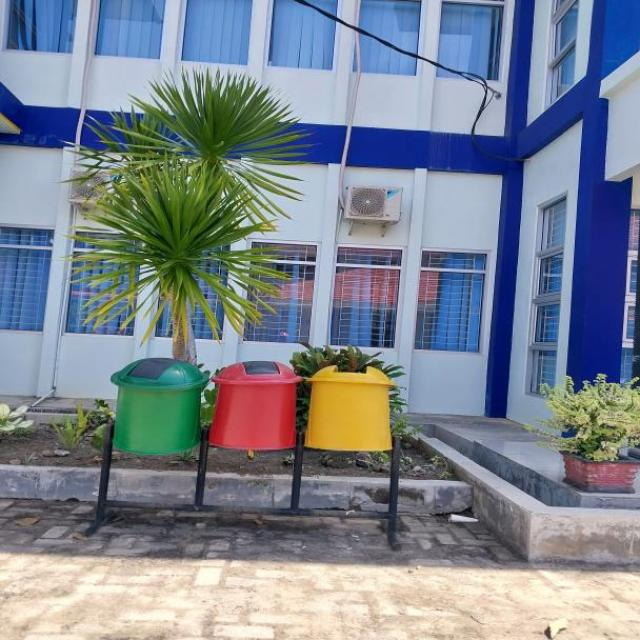dustbin ahead at: (113, 350, 390, 464)
